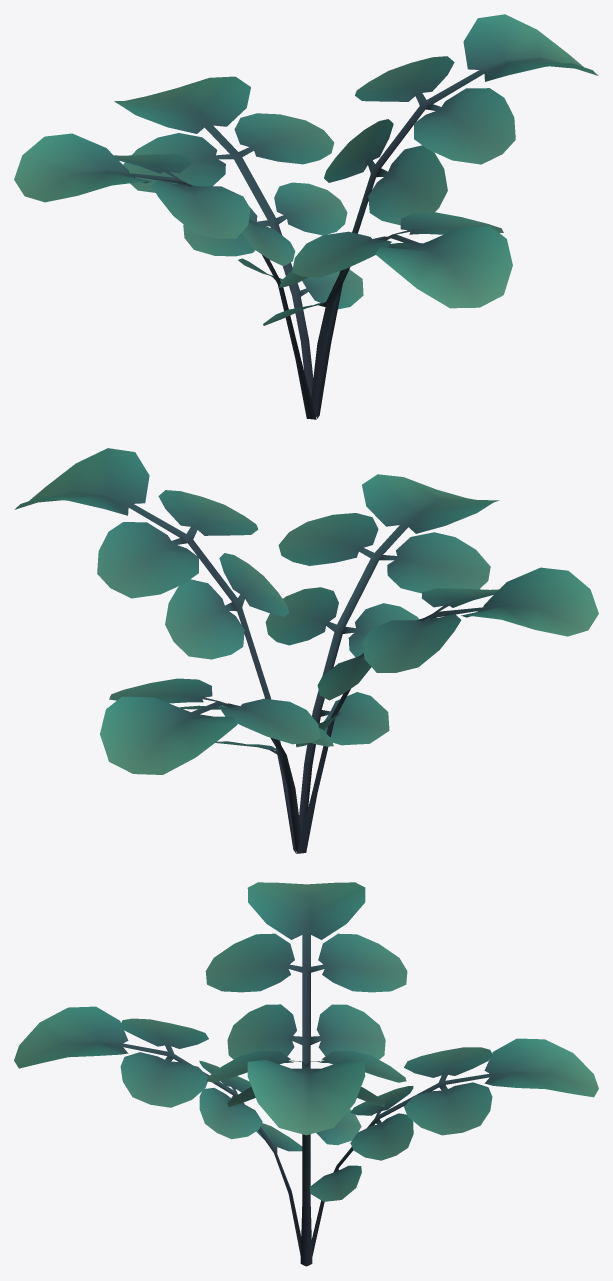
File: S_Bittercress.fbx
3 views of the same model, one above another, from view 1: azimuth 30°, elevation 25°; view 2: azimuth 150°, elevation 25°; view 3: azimuth 270°, elevation 25° (orthographic). The views are drawn at different scales.
Parts seen in each view (by area): view 1: Bittercress_GEO; view 2: Bittercress_GEO; view 3: Bittercress_GEO.
Boxes of the visible parts, bbox=[...] form: Bittercress_GEO: bbox=[14, 14, 598, 419]; Bittercress_GEO: bbox=[14, 448, 598, 853]; Bittercress_GEO: bbox=[14, 882, 598, 1266].
Bounding box in the file's own units: 17.84 × 9.89 × 18.28.
